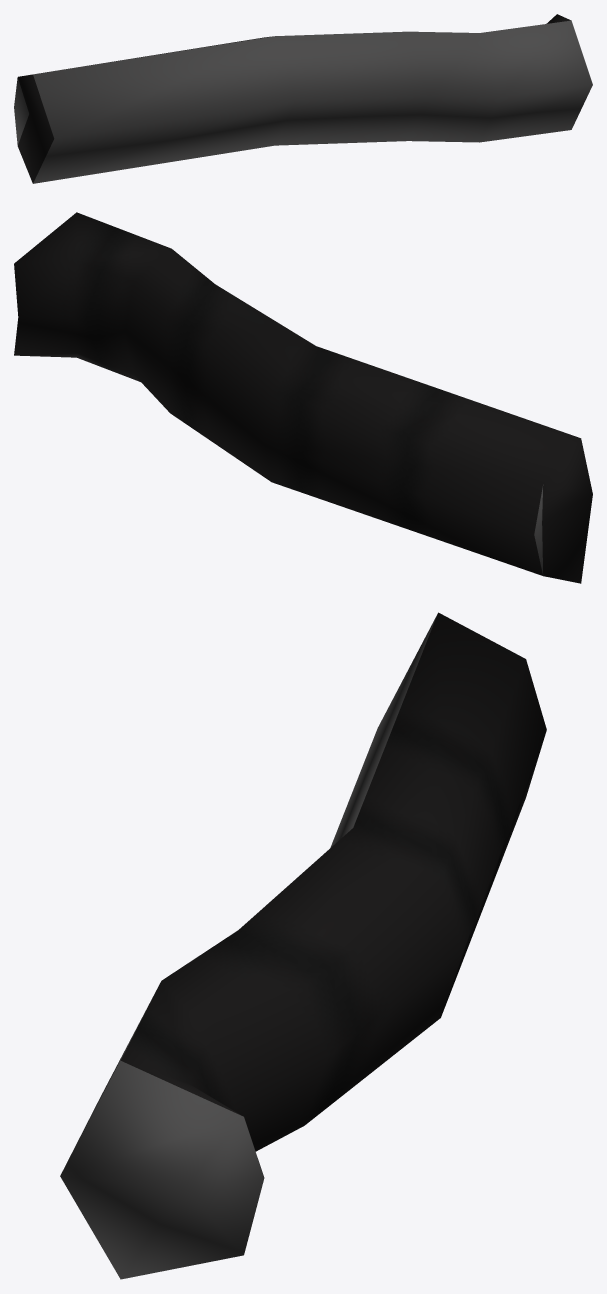
File: Grip1_Ground.fbx
3 renders of one model, top to bottom at view 1: azimuth 30°, elevation 25°; view 2: azimuth 150°, elevation 25°; view 3: azimuth 270°, elevation 25°, orthographic. The views are drawn at different scales.
Visible parts, largest first — view 1: Handgun02.X_.0002; view 2: Handgun02.X_.0002; view 3: Handgun02.X_.0002.
Boxes of the visible parts, x1=… form: Handgun02.X_.0002: x1=14, y1=14, x2=592, y2=183; Handgun02.X_.0002: x1=14, y1=212, x2=592, y2=583; Handgun02.X_.0002: x1=60, y1=612, x2=546, y2=1279.
Bounding box in the file's own units: 0.059 × 0.0129 × 0.026.
